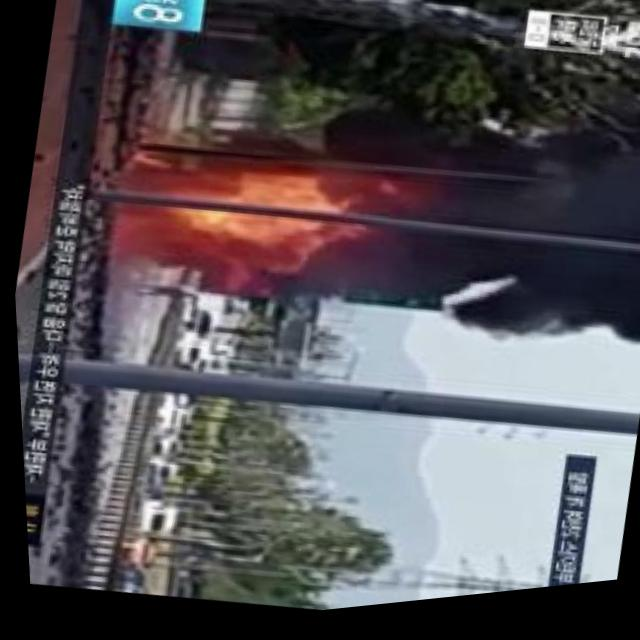Fire: (90, 130, 325, 297)
